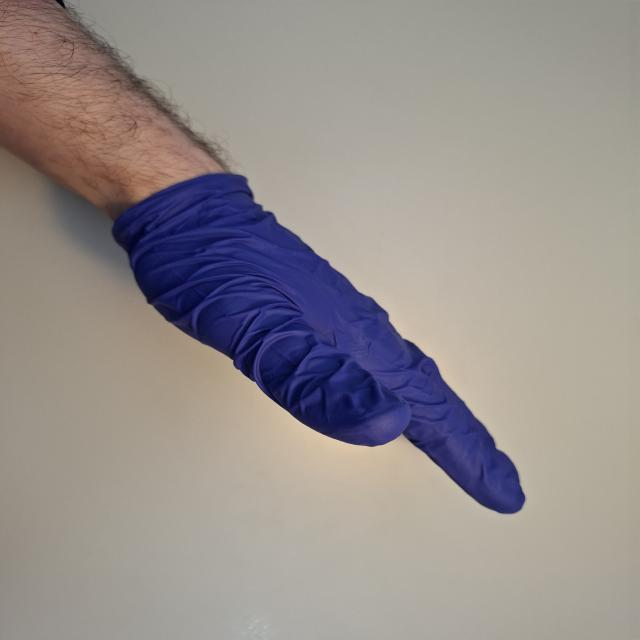glove_on: (106, 172, 531, 516)
